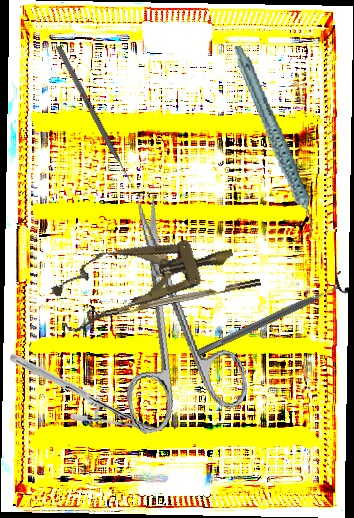Chopper: (79, 278, 263, 330)
Fixation Ring: (189, 269, 352, 366)
Handpiece: (231, 38, 317, 245)
Iris Scissors: (90, 186, 253, 436)
Needle Holder: (9, 349, 156, 438)
Pusher: (55, 45, 137, 191)
Speculum: (45, 218, 243, 338)
